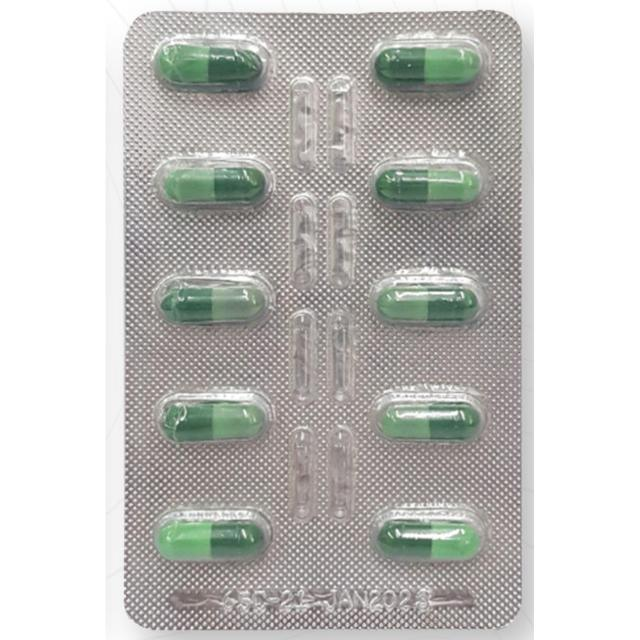blister: (119, 4, 525, 630)
